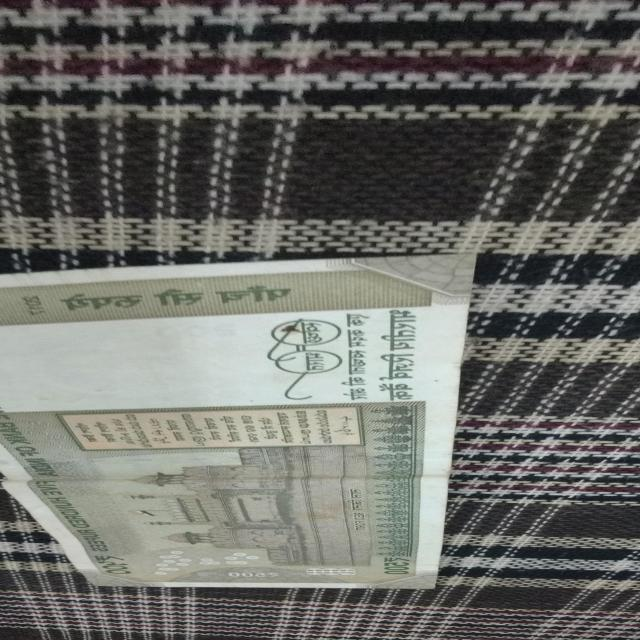Currency: (0, 285, 451, 586)
